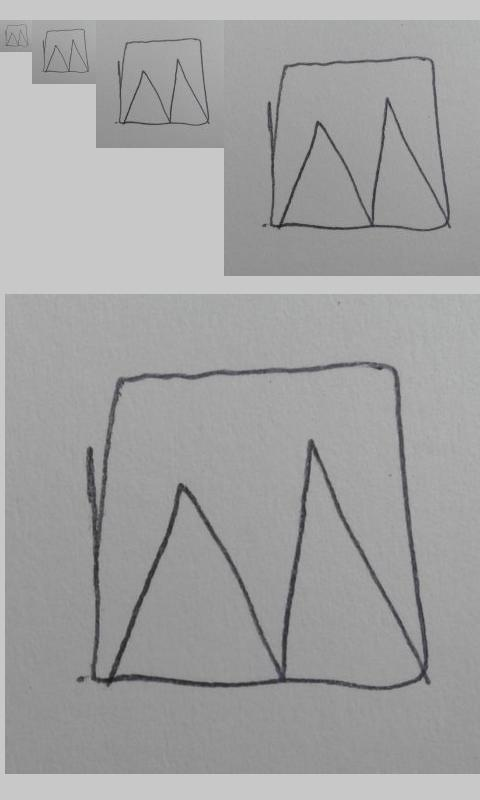image_view: (85, 361, 431, 695), (263, 57, 451, 240), (118, 37, 209, 126), (42, 28, 90, 74), (4, 23, 29, 47)
